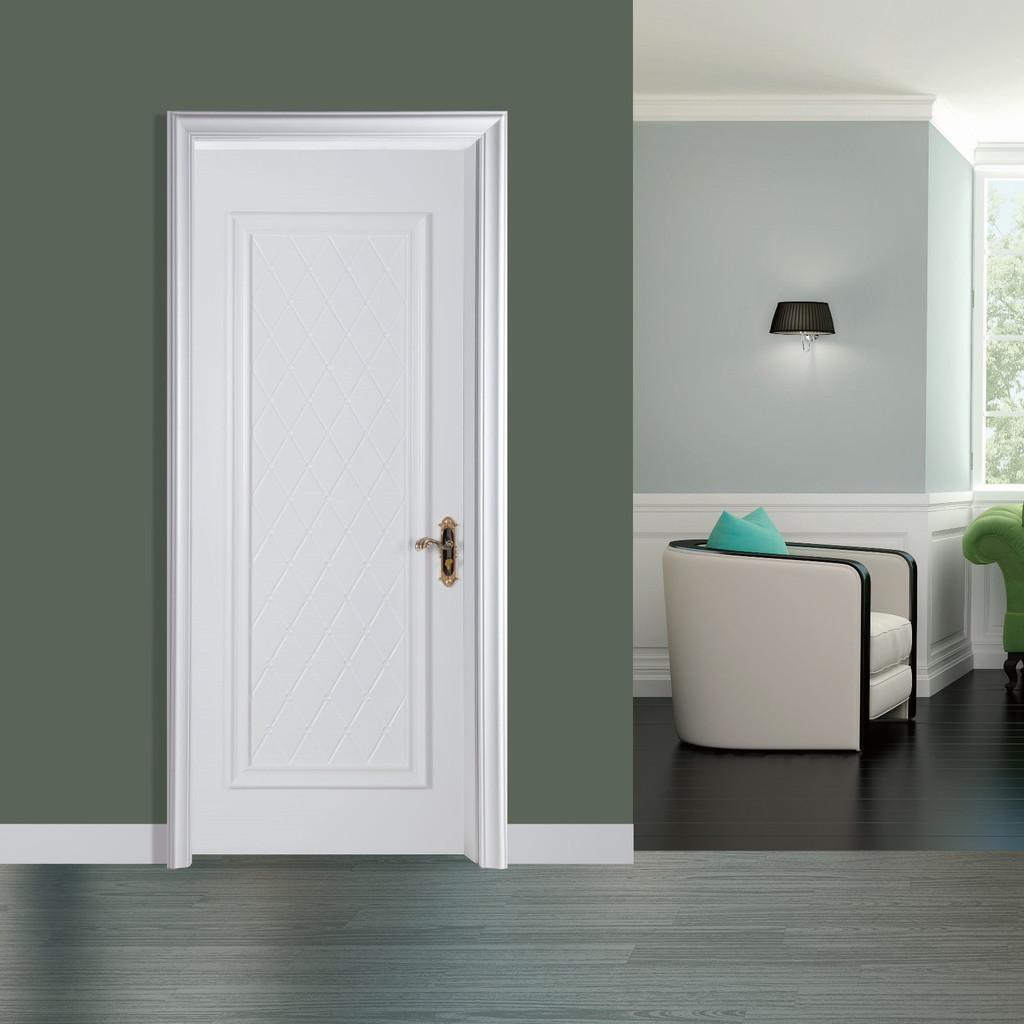door: (179, 123, 508, 867)
